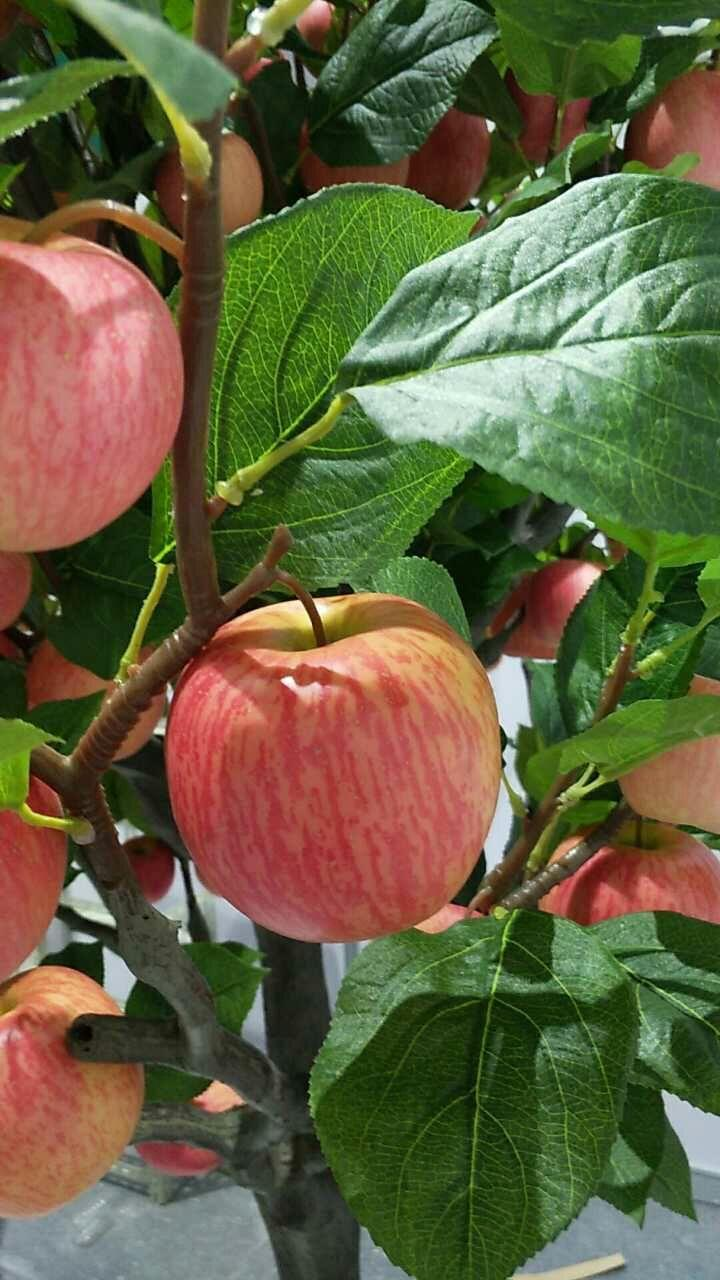apple: (165, 591, 509, 953), (2, 231, 179, 554), (1, 965, 147, 1224), (1, 775, 76, 972), (624, 70, 720, 190)
